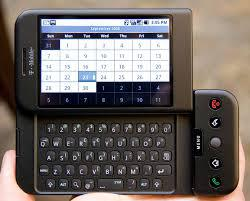Smartphone: (15, 9, 234, 192)
